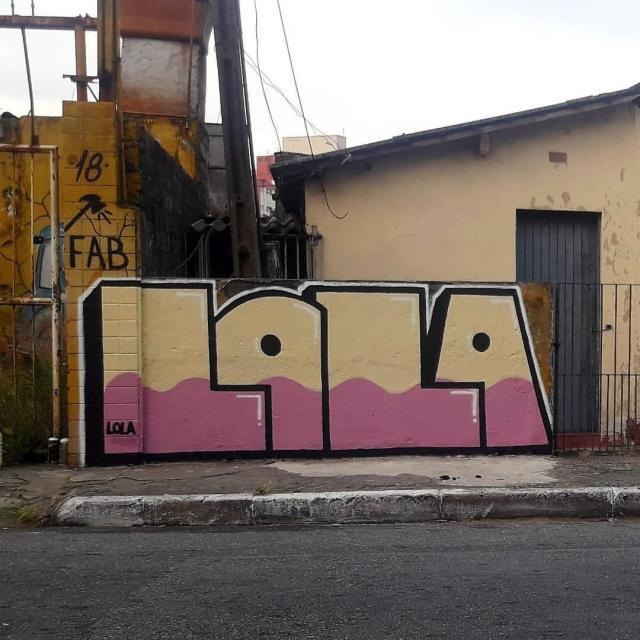nonspitting: (82, 280, 550, 460), (62, 150, 130, 274)
